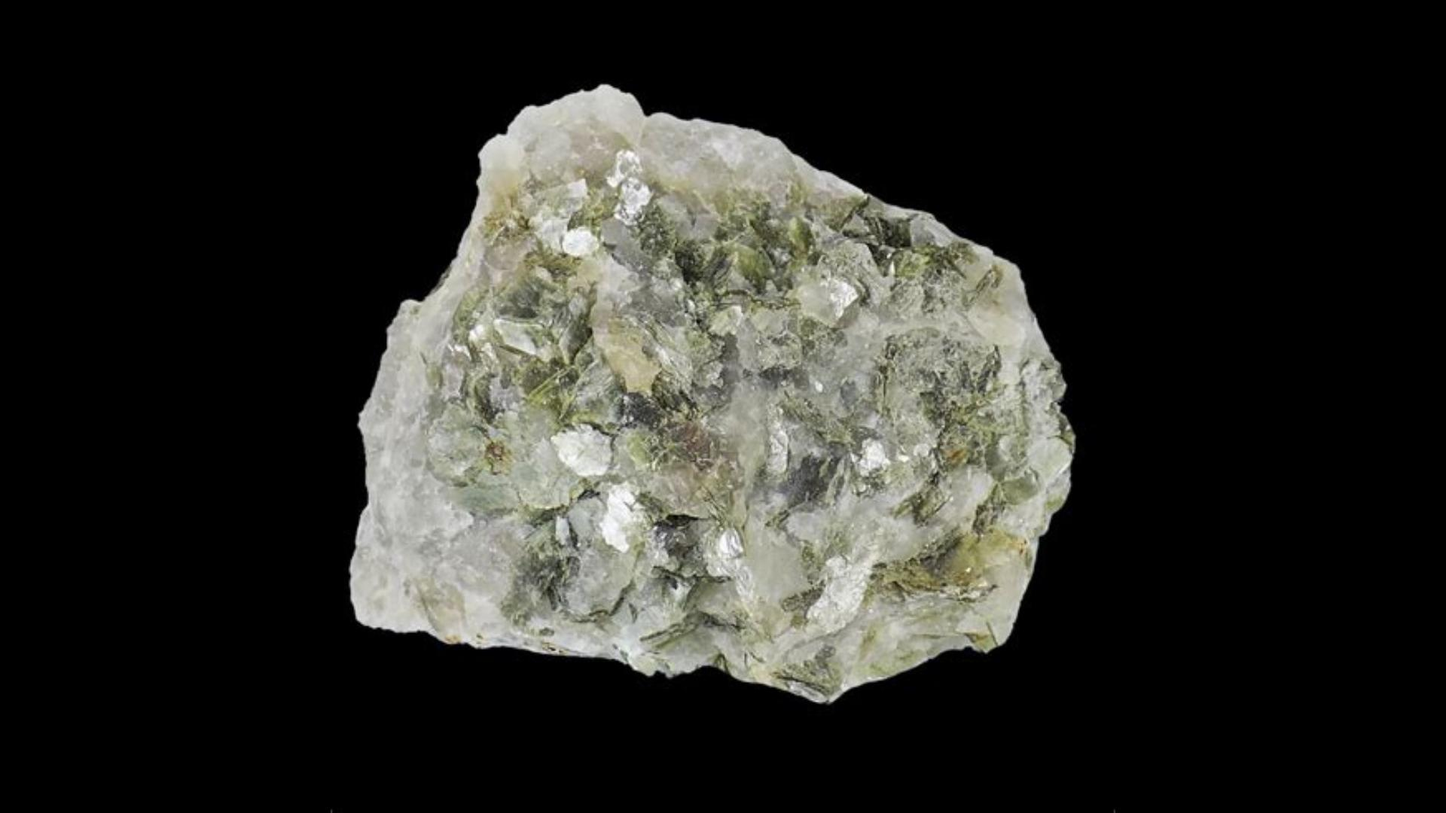rock: (360, 88, 1073, 699)
